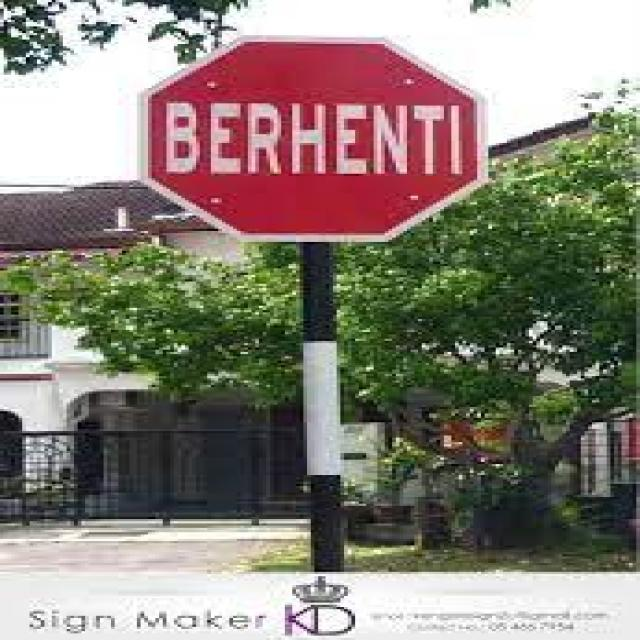stop-sign: (141, 15, 571, 276)
